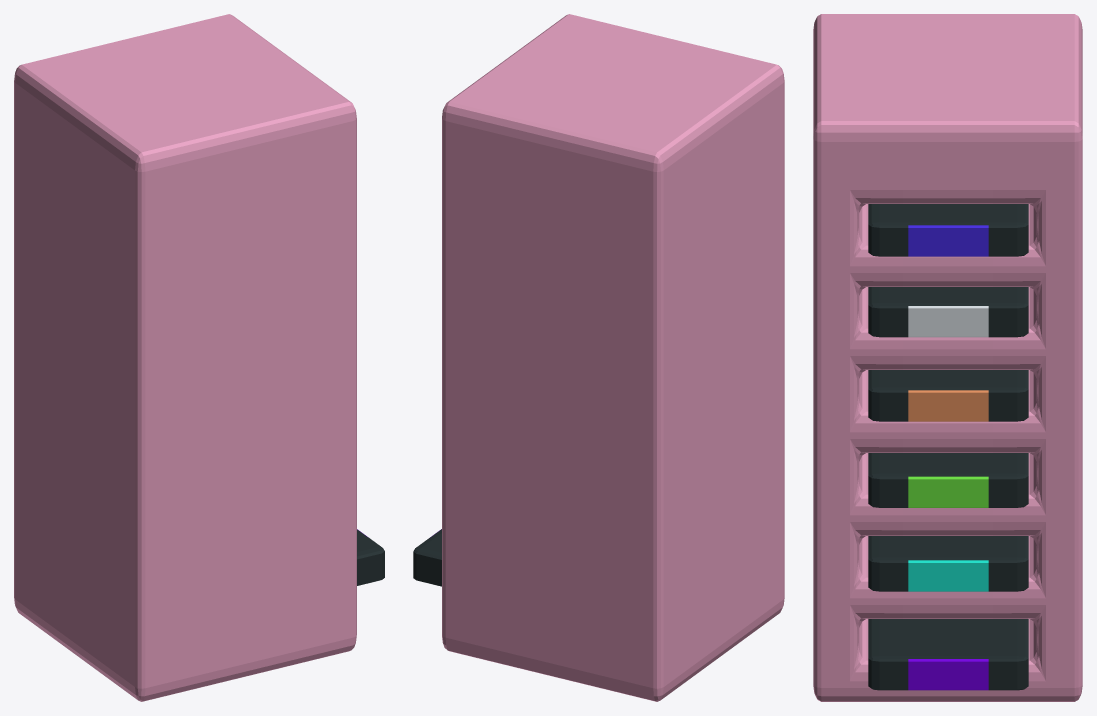
The model's file is shelfState1.glb.
3 views of the same model, side by side, from view 1: azimuth 30°, elevation 25°; view 2: azimuth 150°, elevation 25°; view 3: azimuth 270°, elevation 25° (orthographic). The views are drawn at different scales.
Visible parts, largest first — view 1: Cube, Cube.006; view 2: Cube, Cube.006; view 3: Cube, Cube.006, Cube.005, Cube.004, Cube.003, Cube.001, Cube.002.
Boxes of the visible parts, <box> form: Cube: <box>14,14,356,701</box>; Cube.006: <box>357,529,384,585</box>; Cube: <box>442,14,784,701</box>; Cube.006: <box>413,529,441,586</box>; Cube: <box>813,14,1082,701</box>; Cube.006: <box>868,619,1028,690</box>; Cube.005: <box>868,536,1028,591</box>; Cube.004: <box>868,453,1028,507</box>; Cube.003: <box>868,204,1028,256</box>; Cube.001: <box>868,370,1028,421</box>; Cube.002: <box>868,287,1028,337</box>.
Size of the model in its own units: 2.5 by 4.76 by 2.
